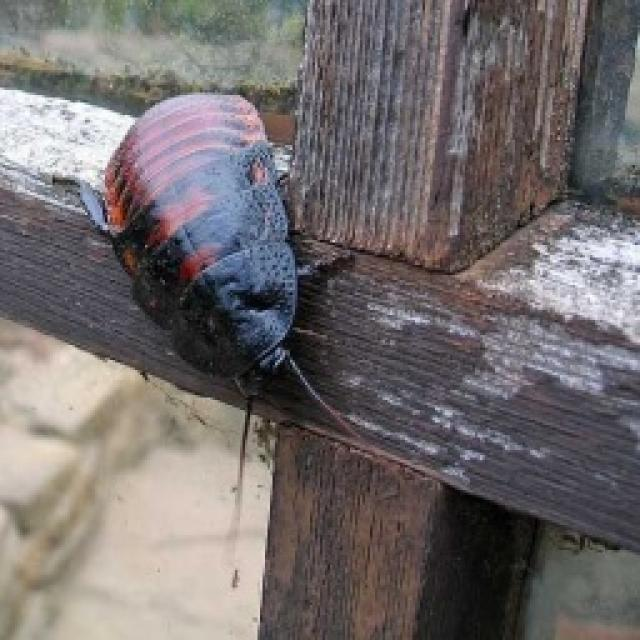cockroach: (90, 41, 318, 472)
